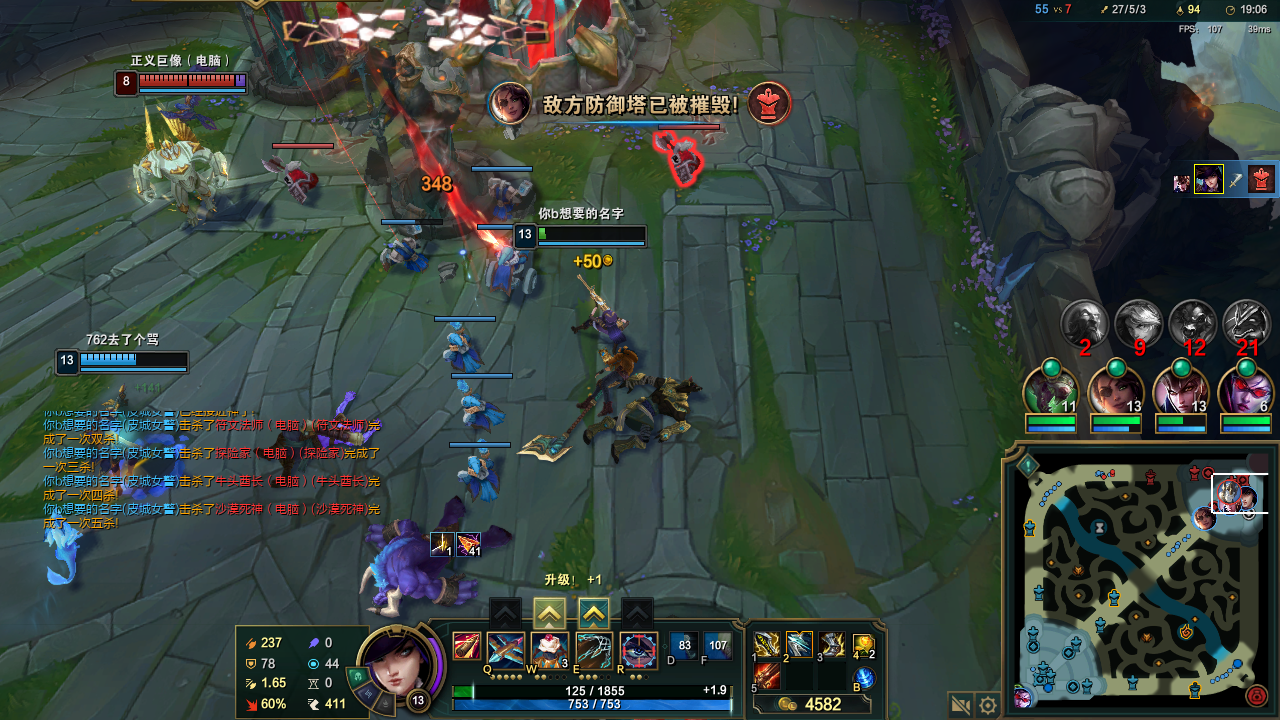DFXB: (272, 157, 318, 191), (662, 141, 704, 176)
DFYX: (134, 74, 242, 89)
KF: (785, 632, 814, 649)
Shenji: (582, 602, 606, 627)
Tuijianshengji: (536, 601, 563, 623)
WFXB: (479, 236, 538, 304), (450, 384, 506, 429), (458, 456, 508, 499), (440, 332, 484, 368), (487, 181, 525, 218), (385, 236, 425, 268)
